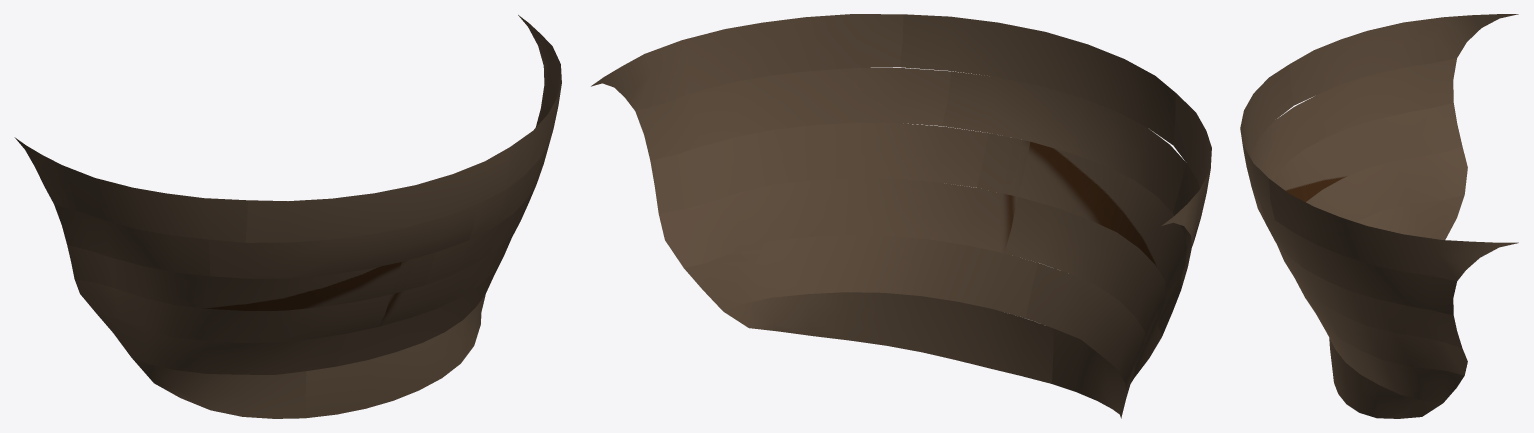
File: Lower_helm.fbx
3 renders of one model, left to right at view 1: azimuth 30°, elevation 25°; view 2: azimuth 150°, elevation 25°; view 3: azimuth 270°, elevation 25°, orthographic. The views are drawn at different scales.
Parts seen in each view (by area): view 1: Lower_helm_1_8, Lower_helm_1_13, Lower_helm_1_6, Lower_helm_1_10, Lower_helm_1_14, Lower_helm_1_1, Lower_helm_1_4, Lower_helm_1_2, Lower_helm_1_11, Lower_helm_1_3, Lower_helm_1_5, Lower_helm_1_12 (+2 smaller); view 2: Lower_helm_1_5, Lower_helm_1_3, Lower_helm_1_7, Lower_helm_1_9, Lower_helm_1_1, Lower_helm_1_12, Lower_helm_1_13, Lower_helm_1_10, Lower_helm_1_8, Lower_helm_1_6, Lower_helm_1_4, Lower_helm_1_2 (+2 smaller); view 3: Lower_helm_1_14, Lower_helm_1_8, Lower_helm_1_12, Lower_helm_1_6, Lower_helm_1_11, Lower_helm_1_9, Lower_helm_1_7, Lower_helm_1_5, Lower_helm_1_3, Lower_helm_1_10, Lower_helm_1_13, Lower_helm_1_1 (+1 smaller).
Boxes of the visible parts, bbox=[...] form: Lower_helm_1_8: bbox=[67, 245, 435, 310]; Lower_helm_1_13: bbox=[245, 147, 509, 242]; Lower_helm_1_6: bbox=[74, 279, 390, 342]; Lower_helm_1_10: bbox=[208, 204, 476, 278]; Lower_helm_1_14: bbox=[14, 137, 247, 242]; Lower_helm_1_1: bbox=[305, 294, 485, 418]; Lower_helm_1_4: bbox=[97, 314, 346, 374]; Lower_helm_1_2: bbox=[132, 358, 306, 418]; Lower_helm_1_11: bbox=[54, 204, 210, 276]; Lower_helm_1_3: bbox=[336, 260, 501, 366]; Lower_helm_1_5: bbox=[379, 223, 519, 326]; Lower_helm_1_12: bbox=[507, 15, 561, 188]; Lower_helm_1_5: bbox=[658, 178, 1017, 267]; Lower_helm_1_3: bbox=[684, 235, 1037, 318]; Lower_helm_1_7: bbox=[650, 122, 988, 213]; Lower_helm_1_9: bbox=[635, 68, 951, 160]; Lower_helm_1_1: bbox=[723, 292, 1053, 383]; Lower_helm_1_12: bbox=[591, 14, 903, 110]; Lower_helm_1_13: bbox=[900, 14, 1175, 144]; Lower_helm_1_10: bbox=[942, 71, 1186, 212]; Lower_helm_1_8: bbox=[977, 133, 1186, 336]; Lower_helm_1_6: bbox=[1004, 197, 1165, 377]; Lower_helm_1_4: bbox=[1026, 263, 1145, 407]; Lower_helm_1_2: bbox=[1052, 328, 1126, 418]; Lower_helm_1_14: bbox=[1289, 14, 1518, 105]; Lower_helm_1_8: bbox=[1273, 103, 1462, 202]; Lower_helm_1_12: bbox=[1269, 178, 1518, 281]; Lower_helm_1_6: bbox=[1306, 146, 1467, 222]; Lower_helm_1_11: bbox=[1318, 58, 1456, 136]; Lower_helm_1_9: bbox=[1261, 204, 1456, 315]; Lower_helm_1_7: bbox=[1276, 243, 1462, 347]; Lower_helm_1_5: bbox=[1295, 278, 1467, 375]; Lower_helm_1_3: bbox=[1317, 315, 1464, 403]; Lower_helm_1_10: bbox=[1250, 95, 1327, 222]; Lower_helm_1_13: bbox=[1240, 64, 1293, 219]; Lower_helm_1_1: bbox=[1329, 338, 1442, 418].
Bounding box in the file's own units: 18.26 × 9.02 × 9.43.
